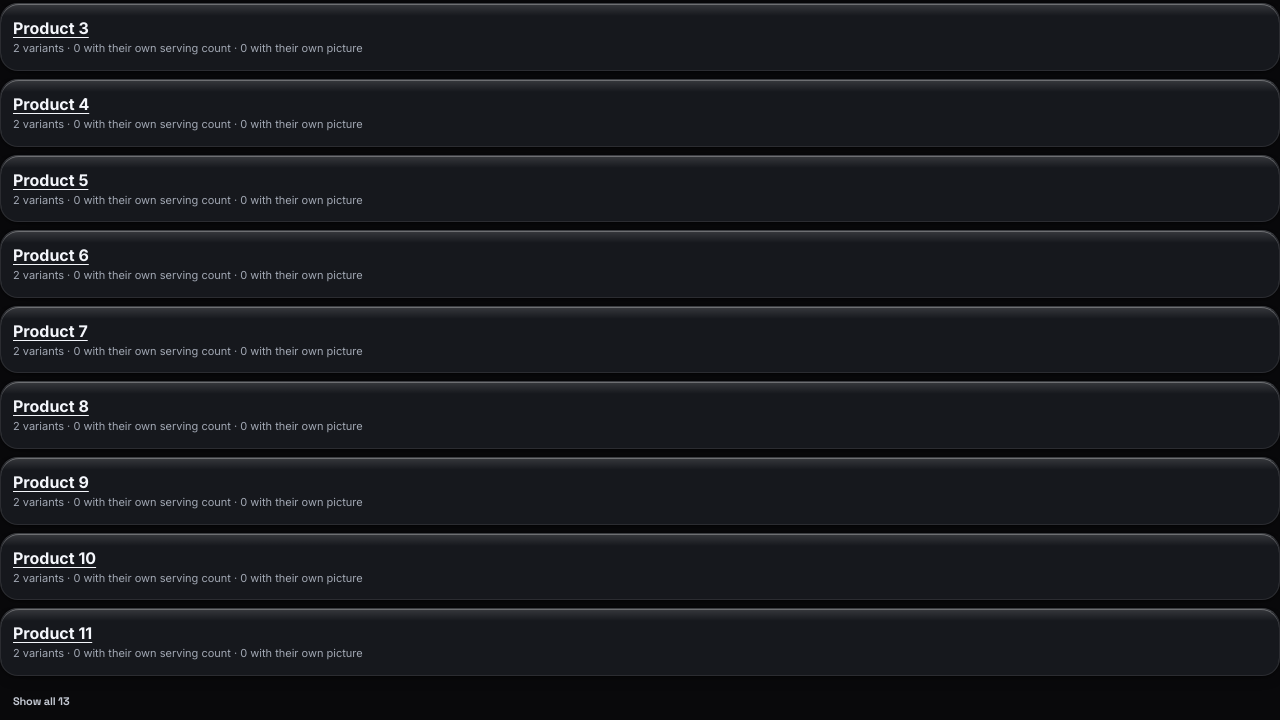
Test: VariantPriceRepairPanel › lists the one-price products by link, marking the ones waiting for review
(page scrolled)
Click the button "Show all 13".
click(41, 702)  # box [0, 684, 82, 719]
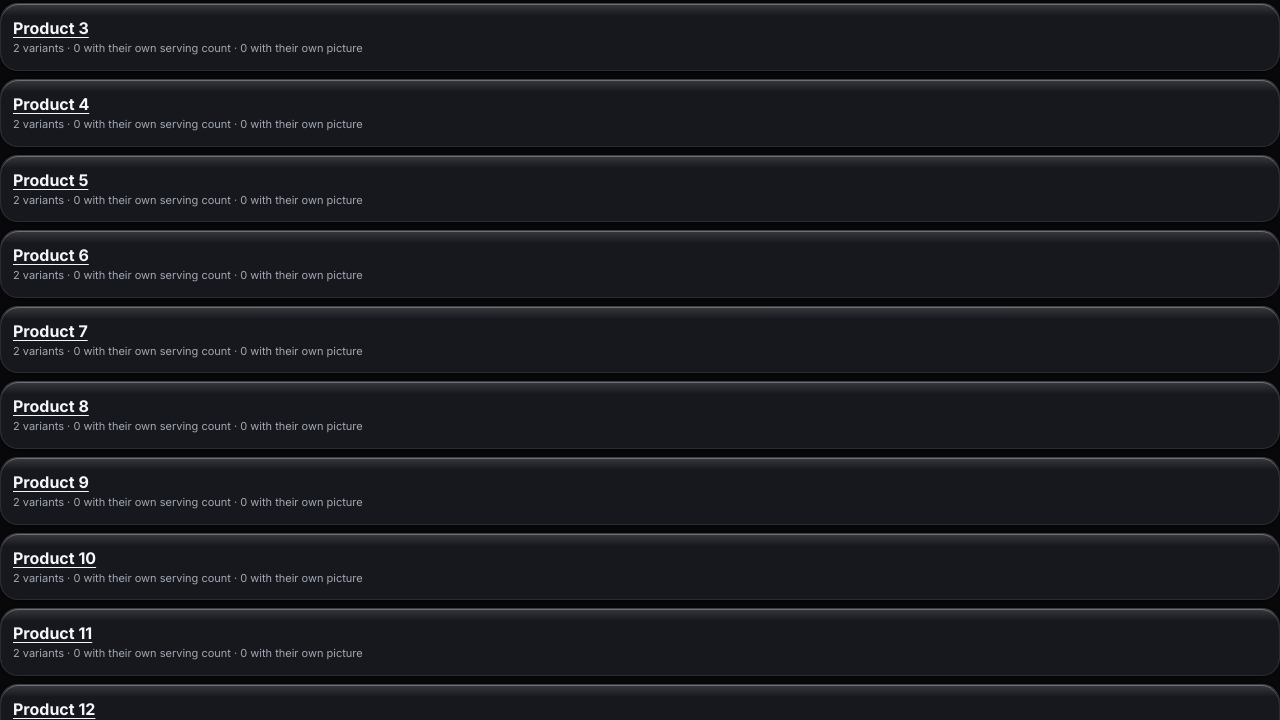
Result: the link "Product 12" is shown at [13, 697, 95, 719]
